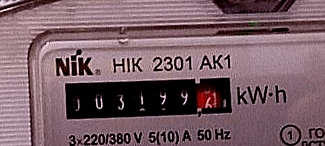0: (68, 92, 81, 114), (91, 90, 104, 111)
1: (135, 87, 146, 106)
3: (113, 91, 125, 111)
6: (202, 93, 213, 110)
9: (156, 86, 168, 107), (177, 86, 189, 106)
screen: (56, 65, 241, 133)
